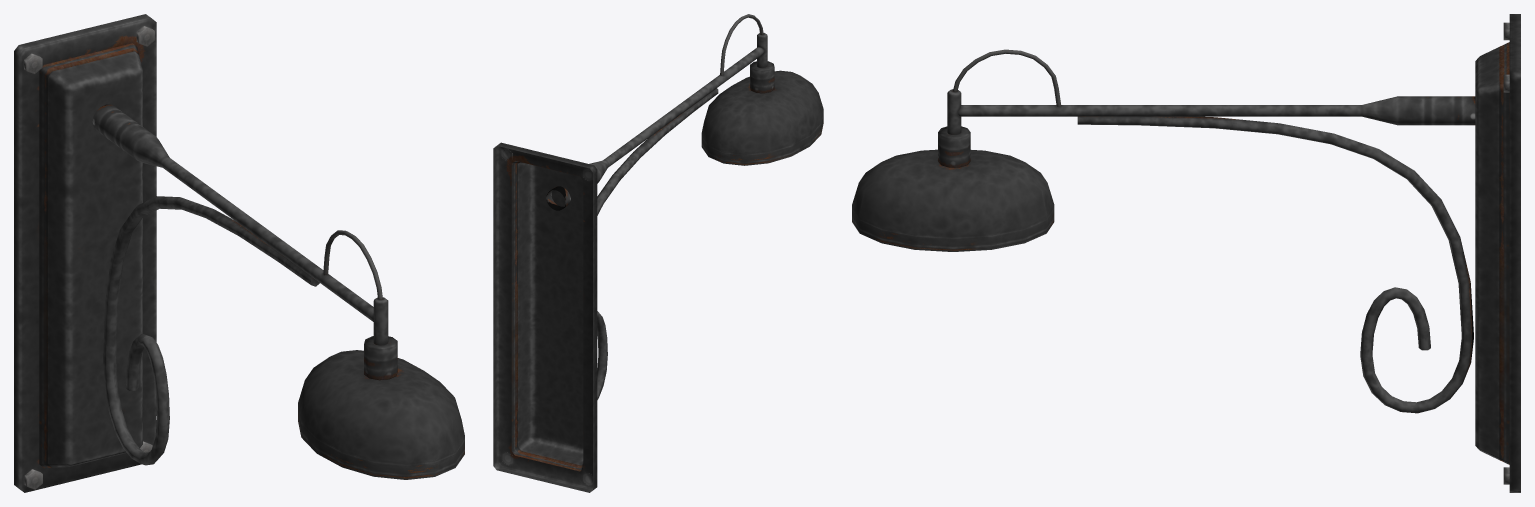
Rendered from LampWall_Large2.fbx.
The picture shows the model from 3 angles, left to right: view 1: azimuth 30°, elevation 25°; view 2: azimuth 150°, elevation 25°; view 3: azimuth 270°, elevation 25°; orthographic projection. The views are drawn at different scales.
Visible parts, largest first — view 1: LampWall_Large2_LOD0; view 2: LampWall_Large2_LOD0; view 3: LampWall_Large2_LOD0.
Boxes of the visible parts, x1,y1,x2,y2 form: LampWall_Large2_LOD0: (14, 14, 464, 492); LampWall_Large2_LOD0: (493, 14, 823, 492); LampWall_Large2_LOD0: (852, 14, 1520, 492).
Size of what is drawn, in the model's own units: 48.46 by 151 by 217.
